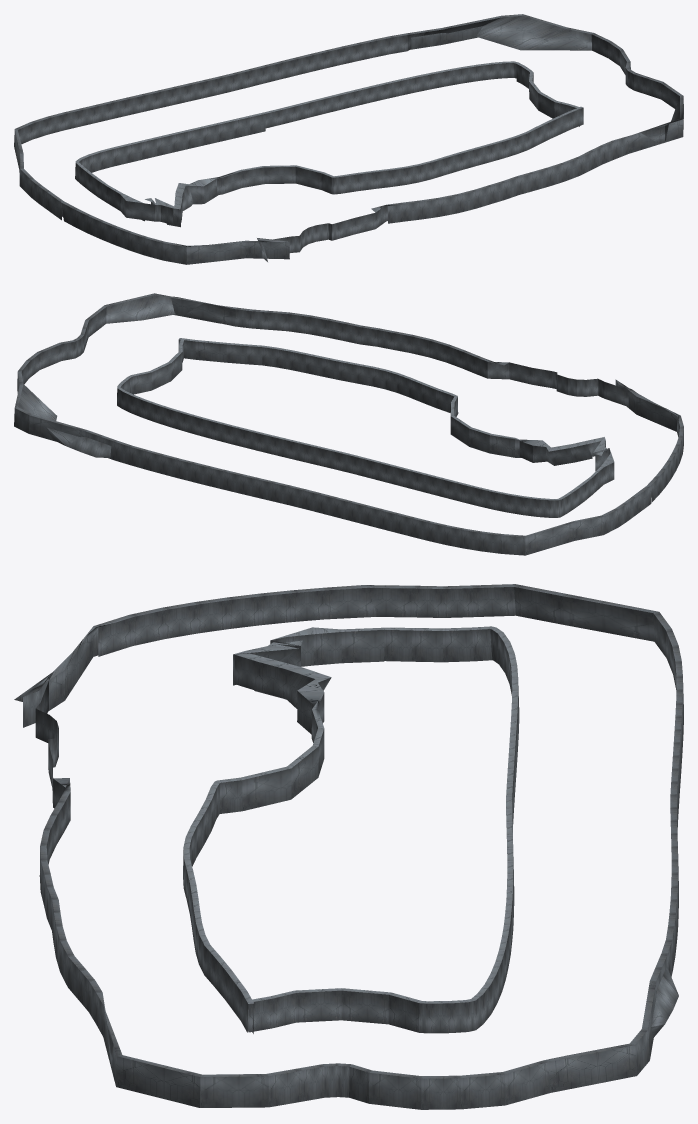
The model's file is track2_modifiedwalls.obj.
3 renders of one model, top to bottom at view 1: azimuth 30°, elevation 25°; view 2: azimuth 150°, elevation 25°; view 3: azimuth 270°, elevation 25°, orthographic. The views are drawn at different scales.
Visible parts, largest first — view 1: RoadSegment_Cube; view 2: RoadSegment_Cube; view 3: RoadSegment_Cube.
Part boxes in pixels (bbox=[...]): RoadSegment_Cube: bbox=[14, 14, 683, 264]; RoadSegment_Cube: bbox=[14, 293, 683, 555]; RoadSegment_Cube: bbox=[14, 584, 683, 1109].
Bounding box in the file's own units: 386 × 13.8 × 221.
